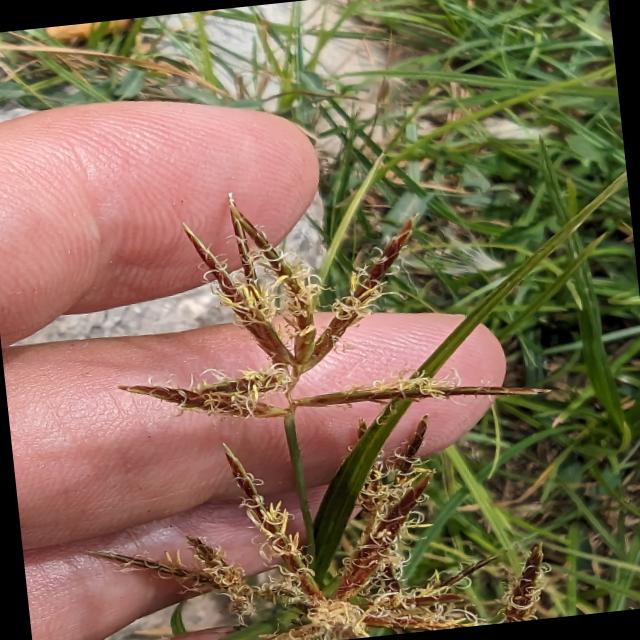cyperus: (58, 148, 572, 640)
